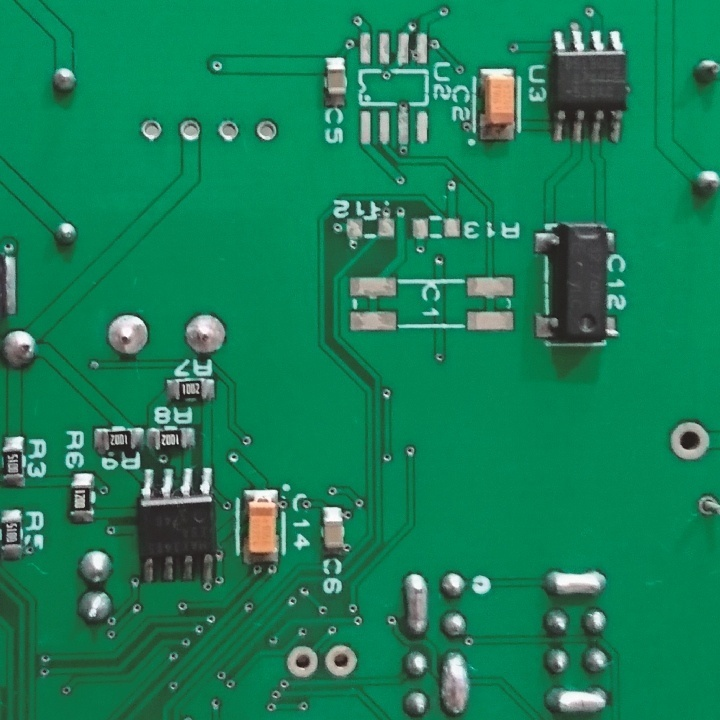F: (179, 308, 230, 358), (665, 419, 713, 461), (104, 314, 151, 355), (321, 640, 359, 683), (284, 643, 319, 680), (691, 490, 720, 523), (175, 114, 204, 144), (137, 115, 165, 145), (213, 117, 241, 146), (252, 116, 278, 146)
P: (434, 647, 474, 718), (540, 565, 611, 603), (538, 683, 616, 717), (401, 568, 430, 641)
